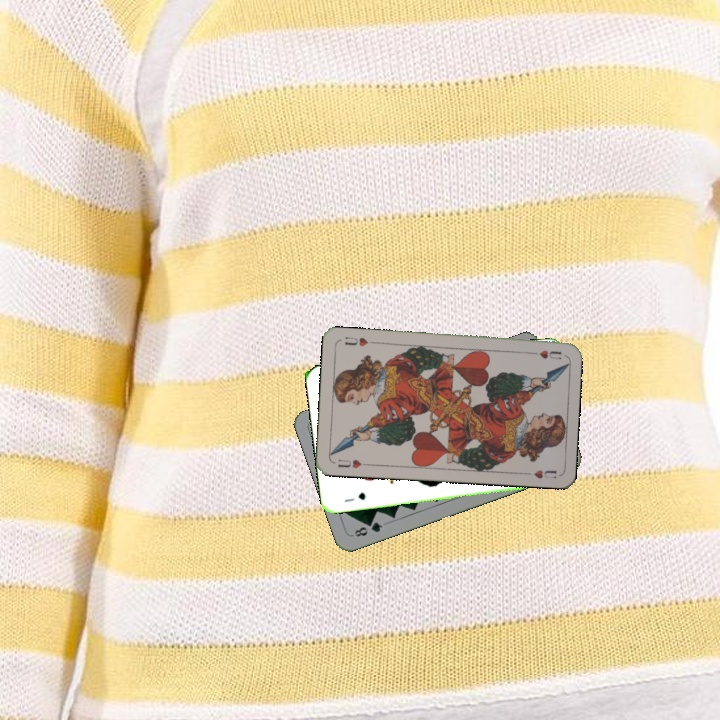G8: (350, 518, 385, 539)
GU: (341, 488, 368, 505)
HU: (525, 346, 564, 362), (334, 455, 371, 471)
